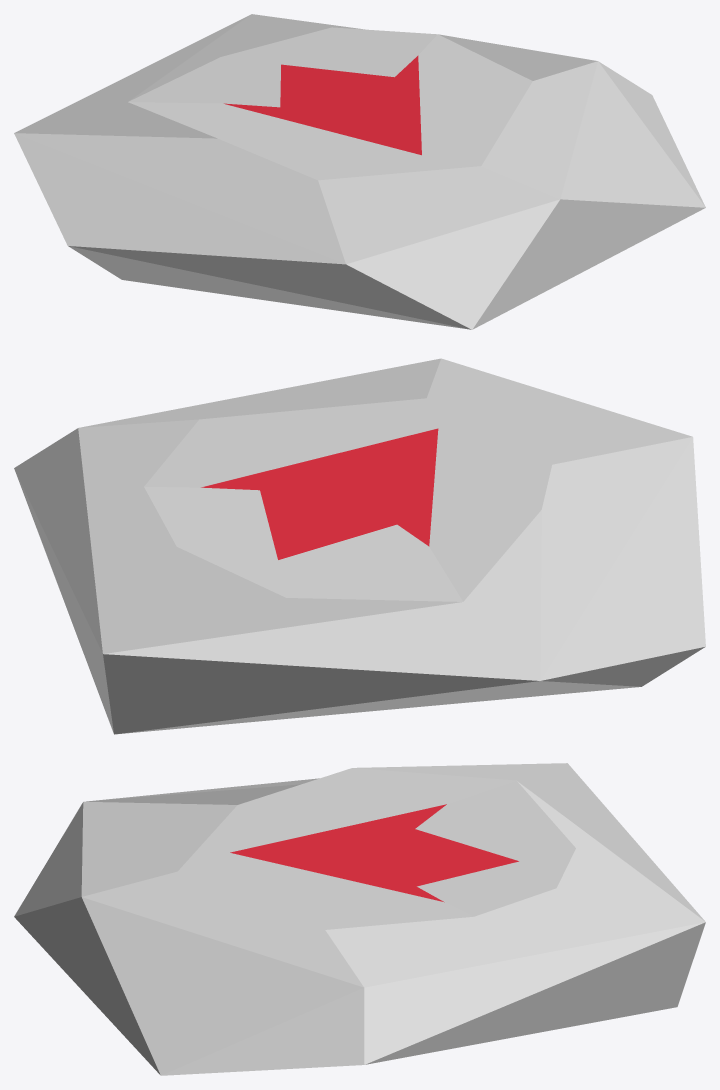
Rendered from Rune_Fire.fbx.
The picture shows the model from 3 angles, top to bottom: view 1: azimuth 30°, elevation 25°; view 2: azimuth 150°, elevation 25°; view 3: azimuth 270°, elevation 25°; orthographic projection. The views are drawn at different scales.
Visible parts, largest first — view 1: Rune_Fire; view 2: Rune_Fire; view 3: Rune_Fire.
Boxes of the visible parts, left/top/right/bottom form: Rune_Fire: left=14, top=14, right=705, bottom=329; Rune_Fire: left=14, top=358, right=705, bottom=734; Rune_Fire: left=14, top=763, right=705, bottom=1075.
Size of the model in its own units: 20.29 by 5.08 by 19.8.
